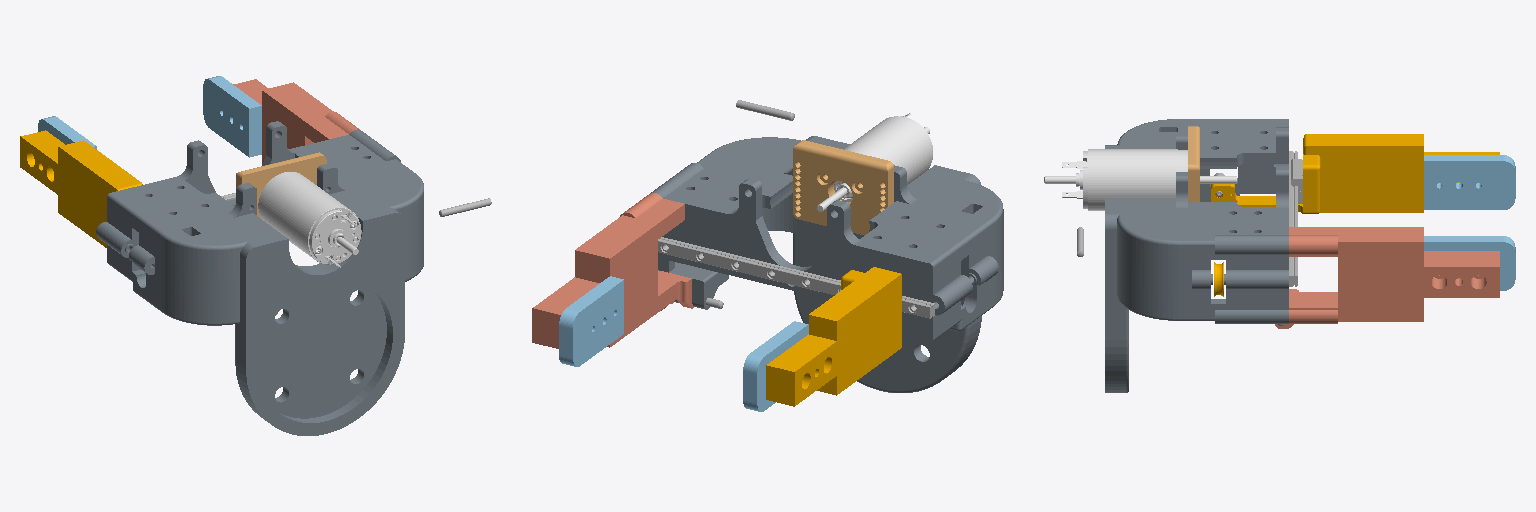
--- What the picture shows (computed from the rendered views, not written in the file) ---
3 views of the same robot in one strip: view 1: azimuth 30°, elevation 25°; view 2: azimuth 150°, elevation 25°; view 3: azimuth 270°, elevation 25° (orthographic).
Robot: exploratoryHand — 15 links, 14 joints (6 revolute, 1 prismatic, 7 fixed); root link world; default pose: every joint at zero.
Visible links, largest first — view 1: handbase_1, softfinger_1; view 2: handbase_1, softfinger_1; view 3: handbase_1, softfinger_1.
Boxes of the visible links, box(x1,y1,x2,y2) form: handbase_1: box(96, 76, 491, 435); softfinger_1: box(20, 116, 142, 247); handbase_1: box(532, 100, 1003, 392); softfinger_1: box(743, 267, 901, 411); handbase_1: box(1044, 119, 1515, 392); softfinger_1: box(1211, 134, 1515, 213).
Size in the robot's own frame: 0.137 by 0.1921 by 0.1075 metres.
20 mesh visuals loaded from 23 distinct referenced files (14 binary STL); not drawn: 10 (reference not matched to a file when rendering).

URDF robot description (exploratoryHand):
<?xml version="1.0" encoding="utf-8"?>
<!-- =================================================================================== -->
<!-- |    This document was autogenerated by xacro from ./urdf/robot_arm.xacro         | -->
<!-- |    EDITING THIS FILE BY HAND IS NOT RECOMMENDED                                 | -->
<!-- =================================================================================== -->
<robot name="exploratoryHand">
  <!-- ros_control plugin -->
  <gazebo>
    <plugin filename="libgazebo_ros_control.so" name="gazebo_ros_control">
      <robotNamespace>/robot</robotNamespace>
      <robotSimType>gazebo_ros_control/DefaultRobotHWSim</robotSimType>
    </plugin>
  </gazebo>
  <!-- Link1 -->
<!--  <gazebo reference="mobilefinger_1"> -->
  <gazebo reference="softfinger_1">
    <mu1>0.2</mu1>
    <mu2>0.2</mu2>
    <material>Gazebo/Orange</material>
  </gazebo>

  <!-- measured from model -->
  <!--property name="shoulder_height" value="0.089159" /-->
  <!--property name="shoulder_offset" value="0.13585" /-->
  <!-- shoulder_offset - elbow_offset + wrist_1_length = 0.10915 -->
  <!--property name="upper_arm_length" value="0.42500" /-->
  <!--property name="elbow_offset" value="0.1197" /-->
  <!-- CAD measured -->
  <!--property name="forearm_length" value="0.39225" /-->
  <!--property name="wrist_1_length" value="0.093" /-->
  <!-- CAD measured -->
  <!--property name="wrist_2_length" value="0.09465" /-->
  <!-- In CAD this distance is 0.930, but in the spec it is 0.09465 -->
  <!--property name="wrist_3_length" value="0.0823" /-->
  <!-- manually measured -->
  <link name="base_link">
    <visual>
      <geometry>
        <mesh filename="package://ur_description/meshes/ur5/visual/base.dae"/>
      </geometry>
      <material name="LightGrey">
        <color rgba="0.7 0.7 0.7 1.0"/>
      </material>
    </visual>
    <collision>
      <geometry>
        <mesh filename="package://ur_description/meshes/ur5/collision/base.stl"/>
      </geometry>
    </collision>
    <inertial>
      <mass value="4.0"/>
      <origin rpy="0 0 0" xyz="0.0 0.0 0.0"/>
      <inertia ixx="0.00443333156" ixy="0.0" ixz="0.0" iyy="0.00443333156" iyz="0.0" izz="0.0072"/>
    </inertial>
  </link>
  <joint name="shoulder_pan_joint" type="revolute">
    <parent link="base_link"/>
    <child link="shoulder_link"/>
    <origin rpy="0.0 0.0 0.0" xyz="0.0 0.0 0.089159"/>
    <axis xyz="0 0 1"/>
    <limit effort="150.0" lower="-3.14159265359" upper="3.14159265359" velocity="3.15"/>
    <dynamics damping="0.0" friction="0.0"/>
  </joint>
  <link name="shoulder_link">
    <visual>
      <geometry>
        <mesh filename="package://ur_description/meshes/ur5/visual/shoulder.dae"/>
      </geometry>
      <material name="LightGrey">
        <color rgba="0.7 0.7 0.7 1.0"/>
      </material>
    </visual>
    <collision>
      <geometry>
        <mesh filename="package://ur_description/meshes/ur5/collision/shoulder.stl"/>
      </geometry>
    </collision>
    <inertial>
      <mass value="3.7"/>
      <origin rpy="0 0 0" xyz="0.0 0.0 0.0"/>
      <inertia ixx="0.010267495893" ixy="0.0" ixz="0.0" iyy="0.010267495893" iyz="0.0" izz="0.00666"/>
    </inertial>
  </link>
  <joint name="shoulder_lift_joint" type="revolute">
    <parent link="shoulder_link"/>
    <child link="upper_arm_link"/>
    <origin rpy="0.0 1.57079632679 0.0" xyz="0.0 0.13585 0.0"/>
    <axis xyz="0 1 0"/>
    <limit effort="150.0" lower="-3.14159265359" upper="3.14159265359" velocity="3.15"/>
    <dynamics damping="0.0" friction="0.0"/>
  </joint>
  <link name="upper_arm_link">
    <visual>
      <geometry>
        <mesh filename="package://ur_description/meshes/ur5/visual/upperarm.dae"/>
      </geometry>
      <material name="LightGrey">
        <color rgba="0.7 0.7 0.7 1.0"/>
      </material>
    </visual>
    <collision>
      <geometry>
        <mesh filename="package://ur_description/meshes/ur5/collision/upperarm.stl"/>
      </geometry>
    </collision>
    <inertial>
      <mass value="8.393"/>
      <origin rpy="0 0 0" xyz="0.0 0.0 0.28"/>
      <inertia ixx="0.22689067591" ixy="0.0" ixz="0.0" iyy="0.22689067591" iyz="0.0" izz="0.0151074"/>
    </inertial>
  </link>
  <joint name="elbow_joint" type="revolute">
    <parent link="upper_arm_link"/>
    <child link="forearm_link"/>
    <origin rpy="0.0 0.0 0.0" xyz="0.0 -0.1197 0.425"/>
    <axis xyz="0 1 0"/>
    <limit effort="150.0" lower="-3.14159265359" upper="3.14159265359" velocity="3.15"/>
    <dynamics damping="0.0" friction="0.0"/>
  </joint>
  <link name="forearm_link">
    <visual>
      <geometry>
        <mesh filename="package://ur_description/meshes/ur5/visual/forearm.dae"/>
      </geometry>
      <material name="LightGrey">
        <color rgba="0.7 0.7 0.7 1.0"/>
      </material>
    </visual>
    <collision>
      <geometry>
        <mesh filename="package://ur_description/meshes/ur5/collision/forearm.stl"/>
      </geometry>
    </collision>
    <inertial>
      <mass value="2.275"/>
      <origin rpy="0 0 0" xyz="0.0 0.0 0.196125"/>
      <inertia ixx="0.0312167910289" ixy="0.0" ixz="0.0" iyy="0.0312167910289" iyz="0.0" izz="0.004095"/>
    </inertial>
  </link>
  <joint name="wrist_1_joint" type="revolute">
    <parent link="forearm_link"/>
    <child link="wrist_1_link"/>
    <origin rpy="0.0 1.57079632679 0.0" xyz="0.0 0.0 0.39225"/>
    <axis xyz="0 1 0"/>
    <limit effort="28.0" lower="-3.14159265359" upper="3.14159265359" velocity="3.2"/>
    <dynamics damping="0.0" friction="0.0"/>
  </joint>
  <link name="wrist_1_link">
    <visual>
      <geometry>
        <mesh filename="package://ur_description/meshes/ur5/visual/wrist1.dae"/>
      </geometry>
      <material name="LightGrey">
        <color rgba="0.7 0.7 0.7 1.0"/>
      </material>
    </visual>
    <collision>
      <geometry>
        <mesh filename="package://ur_description/meshes/ur5/collision/wrist1.stl"/>
      </geometry>
    </collision>
    <inertial>
      <mass value="1.219"/>
      <origin rpy="0 0 0" xyz="0.0 0.093 0.0"/>
      <inertia ixx="0.00255989897604" ixy="0.0" ixz="0.0" iyy="0.00255989897604" iyz="0.0" izz="0.0021942"/>
    </inertial>
  </link>
  <joint name="wrist_2_joint" type="revolute">
    <parent link="wrist_1_link"/>
    <child link="wrist_2_link"/>
    <origin rpy="0.0 0.0 0.0" xyz="0.0 0.093 0.0"/>
    <axis xyz="0 0 1"/>
    <limit effort="28.0" lower="-3.14159265359" upper="3.14159265359" velocity="3.2"/>
    <dynamics damping="0.0" friction="0.0"/>
  </joint>
  <link name="wrist_2_link">
    <visual>
      <geometry>
        <mesh filename="package://ur_description/meshes/ur5/visual/wrist2.dae"/>
      </geometry>
      <material name="LightGrey">
        <color rgba="0.7 0.7 0.7 1.0"/>
      </material>
    </visual>
    <collision>
      <geometry>
        <mesh filename="package://ur_description/meshes/ur5/collision/wrist2.stl"/>
      </geometry>
    </collision>
    <inertial>
      <mass value="1.219"/>
      <origin rpy="0 0 0" xyz="0.0 0.0 0.09465"/>
      <inertia ixx="0.00255989897604" ixy="0.0" ixz="0.0" iyy="0.00255989897604" iyz="0.0" izz="0.0021942"/>
    </inertial>
  </link>
  <joint name="wrist_3_joint" type="revolute">
    <parent link="wrist_2_link"/>
    <child link="wrist_3_link"/>
    <origin rpy="0.0 0.0 0.0" xyz="0.0 0.0 0.09465"/>
    <axis xyz="0 1 0"/>
    <limit effort="28.0" lower="-3.14159265359" upper="3.14159265359" velocity="3.2"/>
    <dynamics damping="0.0" friction="0.0"/>
  </joint>
  <link name="wrist_3_link">
    <visual>
      <geometry>
        <mesh filename="package://ur_description/meshes/ur5/visual/wrist3.dae"/>
      </geometry>
      <material name="LightGrey">
        <color rgba="0.7 0.7 0.7 1.0"/>
      </material>
    </visual>
    <collision>
      <geometry>
        <mesh filename="package://ur_description/meshes/ur5/collision/wrist3.stl"/>
      </geometry>
    </collision>
    <inertial>
      <mass value="0.1879"/>
      <origin rpy="1.57079632679 0 0" xyz="0.0 0.06505 0.0"/>
      <inertia ixx="8.46958911216e-05" ixy="0.0" ixz="0.0" iyy="8.46958911216e-05" iyz="0.0" izz="0.0001321171875"/>
    </inertial>
  </link>
  <joint name="ee_fixed_joint" type="fixed">
    <parent link="wrist_3_link"/>
    <child link="ee_link"/>
    <origin rpy="0.0 0.0 1.57079632679" xyz="0.0 0.0823 0.0"/>
  </joint>
  <link name="ee_link">
    <collision>
      <geometry>
        <box size="0.01 0.01 0.01"/>
      </geometry>
      <origin rpy="0 0 0" xyz="-0.01 0 0"/>
    </collision>
  </link>
  <transmission name="shoulder_pan_trans">
    <type>transmission_interface/SimpleTransmission</type>
    <joint name="shoulder_pan_joint">
      <hardwareInterface>hardware_interface/PositionJointInterface</hardwareInterface>
    </joint>
    <actuator name="shoulder_pan_motor">
      <mechanicalReduction>1</mechanicalReduction>
    </actuator>
  </transmission>
  <transmission name="shoulder_lift_trans">
    <type>transmission_interface/SimpleTransmission</type>
    <joint name="shoulder_lift_joint">
      <hardwareInterface>hardware_interface/PositionJointInterface</hardwareInterface>
    </joint>
    <actuator name="shoulder_lift_motor">
      <mechanicalReduction>1</mechanicalReduction>
    </actuator>
  </transmission>
  <transmission name="elbow_trans">
    <type>transmission_interface/SimpleTransmission</type>
    <joint name="elbow_joint">
      <hardwareInterface>hardware_interface/PositionJointInterface</hardwareInterface>
    </joint>
    <actuator name="elbow_motor">
      <mechanicalReduction>1</mechanicalReduction>
    </actuator>
  </transmission>
  <transmission name="wrist_1_trans">
    <type>transmission_interface/SimpleTransmission</type>
    <joint name="wrist_1_joint">
      <hardwareInterface>hardware_interface/PositionJointInterface</hardwareInterface>
    </joint>
    <actuator name="wrist_1_motor">
      <mechanicalReduction>1</mechanicalReduction>
    </actuator>
  </transmission>
  <transmission name="wrist_2_trans">
    <type>transmission_interface/SimpleTransmission</type>
    <joint name="wrist_2_joint">
      <hardwareInterface>hardware_interface/PositionJointInterface</hardwareInterface>
    </joint>
    <actuator name="wrist_2_motor">
      <mechanicalReduction>1</mechanicalReduction>
    </actuator>
  </transmission>
  <transmission name="wrist_3_trans">
    <type>transmission_interface/SimpleTransmission</type>
    <joint name="wrist_3_joint">
      <hardwareInterface>hardware_interface/PositionJointInterface</hardwareInterface>
    </joint>
    <actuator name="wrist_3_motor">
      <mechanicalReduction>1</mechanicalReduction>
    </actuator>
  </transmission>
  <gazebo reference="shoulder_link">
    <selfCollide>true</selfCollide>
  </gazebo>
  <gazebo reference="upper_arm_link">
    <selfCollide>true</selfCollide>
  </gazebo>
  <gazebo reference="forearm_link">
    <selfCollide>true</selfCollide>
  </gazebo>
  <gazebo reference="wrist_1_link">
    <selfCollide>true</selfCollide>
  </gazebo>
  <gazebo reference="wrist_2_link">
    <selfCollide>true</selfCollide>
  </gazebo>
  <gazebo reference="wrist_3_link">
    <selfCollide>true</selfCollide>
  </gazebo>
  <gazebo reference="ee_link">
    <selfCollide>true</selfCollide>
  </gazebo>

    <!-- The ft_sensor plugin -->  
  <gazebo>
      <plugin name="ft_sensor" filename="libgazebo_ros_ft_sensor.so">
          <updateRate>0</updateRate>	<!-- updateRate must be 0 for avoiding stop when reset the simulation -->
          <topicName>ft_sensor_topic</topicName>
          <jointName>wrist_3_joint</jointName>
      </plugin>
  </gazebo>

  <!-- ROS base_link to UR 'Base' Coordinates transform -->
  <link name="base"/>
  <joint name="base_link-base_fixed_joint" type="fixed">
    <!-- NOTE: this rotation is only needed as long as base_link itself is
                 not corrected wrt the real robot (ie: rotated over 180
                 degrees)
      -->
    <origin rpy="0 0 -3.14159265359" xyz="0 0 0"/>
    <parent link="base_link"/>
    <child link="base"/>
  </joint>
  <!-- Frame coincident with all-zeros TCP on UR controller -->
  <link name="tool0"/>
  <joint name="wrist_3_link-tool0_fixed_joint" type="fixed">
    <origin rpy="-1.57079632679 0 0" xyz="0 0.0823 0"/>
    <parent link="wrist_3_link"/>
    <child link="tool0"/>
  </joint>

  <joint name="ee_joint" type="fixed">
    <parent link="tool0"/>
    <child link="handbase_1"/>
    <origin rpy="0.0 0 0" xyz="0 0 0"/>
  </joint>

  <link name="handbase_1">
    <visual>
      <origin rpy="0 -0 0" xyz="-0.06 0.0545 0.00025"/>
      <geometry>
        <mesh filename="package://ur_description/meshes/exp_hand/pulley.stl"/>
      </geometry>
      <material name="pulley_material">
        <color rgba="0.980392 0.713725 0.00392157 1.0"/>
      </material>
    </visual>
    <collision>
      <origin rpy="0 -0 0" xyz="-0.06 0.0545 0.00025"/>
      <geometry>
        <mesh filename="package://ur_description/meshes/exp_hand/pulley.stl"/>
      </geometry>
      <material name="pulley_material">
        <color rgba="0.980392 0.713725 0.00392157 1.0"/>
      </material>
    </collision>
    <visual>
      <origin rpy="5.55112e-17 2.28323e-16 3.74314e-16" xyz="-0.06 0.0545 8.52833e-16"/>
      <geometry>
        <mesh filename="package://ur_description/meshes/exp_hand/rigidfinger.stl"/>
      </geometry>
      <material name="rigidfinger_material">
        <color rgba="0.882353 0.572549 0.478431 1.0"/>
      </material>
    </visual>
    <collision>
      <origin rpy="5.55112e-17 2.28323e-16 3.74314e-16" xyz="-0.06 0.0545 8.52833e-16"/>
      <geometry>
        <mesh filename="package://ur_description/meshes/exp_hand/rigidfinger.stl"/>
      </geometry>
      <material name="rigidfinger_material">
        <color rgba="0.882353 0.572549 0.478431 1.0"/>
      </material>
    </collision>
    <visual>
      <origin rpy="-0 1.5708 0" xyz="1.38778e-17 0.0545 0.029"/>
      <geometry>
        <mesh filename="package://ur_description/meshes/exp_hand/302534_re25_gb_20w_kl_2we.stl"/>
      </geometry>
      <material name="302534_re25_gb_20w_kl_2we_material">
        <color rgba="0.917647 0.917647 0.917647 1.0"/>
      </material>
    </visual>
    <collision>
      <origin rpy="-0 1.5708 0" xyz="1.38778e-17 0.0545 0.029"/>
      <geometry>
        <mesh filename="package://ur_description/meshes/exp_hand/302534_re25_gb_20w_kl_2we.stl"/>
      </geometry>
      <material name="302534_re25_gb_20w_kl_2we_material">
        <color rgba="0.917647 0.917647 0.917647 1.0"/>
      </material>
    </collision>
    <visual>
      <origin rpy="0 -0 0" xyz="-0.06 0.0545 0.00025"/>
      <geometry>
        <mesh filename="package://ur_description/meshes/exp_hand/pulley.stl"/>
      </geometry>
      <material name="pulley_material">
        <color rgba="0.980392 0.713725 0.00392157 1.0"/>
      </material>
    </visual>
    <collision>
      <origin rpy="0 -0 0" xyz="-0.06 0.0545 0.00025"/>
      <geometry>
        <mesh filename="package://ur_description/meshes/exp_hand/pulley.stl"/>
      </geometry>
      <material name="pulley_material">
        <color rgba="0.980392 0.713725 0.00392157 1.0"/>
      </material>
    </collision>
    <visual>
      <origin rpy="0 -0 0" xyz="-0.06 0.0545 -0.0149582"/>
      <geometry>
        <mesh filename="package://ur_description/meshes/exp_hand/dowel-m3-l24.stl"/>
      </geometry>
      <material name="dowel-m3-l24_material">
        <color rgba="0.752941 0.752941 0.752941 1.0"/>
      </material>
    </visual>
    <collision>
      <origin rpy="0 -0 0" xyz="-0.06 0.0545 -0.0149582"/>
      <geometry>
        <mesh filename="package://ur_description/meshes/exp_hand/dowel-m3-l24.stl"/>
      </geometry>
      <material name="dowel-m3-l24_material">
        <color rgba="0.752941 0.752941 0.752941 1.0"/>
      </material>
    </collision>
    <visual>
      <origin rpy="2.02111e-26 9.52613e-17 9.63735e-17" xyz="-0.06 0.0545 6.07153e-18"/>
      <geometry>
        <mesh filename="package://ur_description/meshes/exp_hand/handbase.stl"/>
      </geometry>
      <material name="handbase_material">
        <color rgba="0.529412 0.568627 0.6 1.0"/>
      </material>
    </visual>
    <collision>
      <origin rpy="2.02111e-26 9.52613e-17 9.63735e-17" xyz="-0.06 0.0545 6.07153e-18"/>
      <geometry>
        <mesh filename="package://ur_description/meshes/exp_hand/handbase.stl"/>
      </geometry>
      <material name="handbase_material">
        <color rgba="0.529412 0.568627 0.6 1.0"/>
      </material>
    </collision>
    <visual>
      <origin rpy="1.0413e-28 -0 2.34901e-31" xyz="-0.06 0.0545 -1.38778e-17"/>
      <geometry>
        <mesh filename="package://ur_description/meshes/exp_hand/linearrail120.stl"/>
      </geometry>
      <material name="linearrail120_material">
        <color rgba="0.752941 0.752941 0.752941 1.0"/>
      </material>
    </visual>
    <collision>
      <origin rpy="1.0413e-28 -0 2.34901e-31" xyz="-0.06 0.0545 -1.38778e-17"/>
      <geometry>
        <mesh filename="package://ur_description/meshes/exp_hand/linearrail120.stl"/>
      </geometry>
      <material name="linearrail120_material">
        <color rgba="0.752941 0.752941 0.752941 1.0"/>
      </material>
    </collision>
    <visual>
      <origin rpy="1.5708 5.55112e-17 -1.5708" xyz="-0.039 0.0365 0.14375"/>
      <geometry>
        <mesh filename="package://ur_description/meshes/exp_hand/c-203-pad_distal_blank.stl"/>
      </geometry>
      <material name="c-203-pad_distal_blank_material">
        <color rgba="0.615686 0.811765 0.929412 1.0"/>
      </material>
    </visual>
    <collision>
      <origin rpy="1.5708 5.55112e-17 -1.5708" xyz="-0.039 0.0365 0.14375"/>
      <geometry>
        <mesh filename="package://ur_description/meshes/exp_hand/c-203-pad_distal_blank.stl"/>
      </geometry>
      <material name="c-203-pad_distal_blank_material">
        <color rgba="0.615686 0.811765 0.929412 1.0"/>
      </material>
    </collision>
    <visual>
      <origin rpy="-3.14159 1.5708 0" xyz="-0.0575 0.052 0.072"/>
      <geometry>
        <mesh filename="package://ur_description/meshes/exp_hand/dowelm3-32.stl"/>
      </geometry>
      <material name="dowelm3-32_material">
        <color rgba="0.752941 0.752941 0.752941 1.0"/>
      </material>
    </visual>
    <collision>
      <origin rpy="-3.14159 1.5708 0" xyz="-0.0575 0.052 0.072"/>
      <geometry>
        <mesh filename="package://ur_description/meshes/exp_hand/dowelm3-32.stl"/>
      </geometry>
      <material name="dowelm3-32_material">
        <color rgba="0.752941 0.752941 0.752941 1.0"/>
      </material>
    </collision>
    <visual>
      <origin rpy="3.14159 -0 0" xyz="-0.051 0.05125 0.0684125"/>
      <geometry>
        <mesh filename="package://ur_description/meshes/exp_hand/neodyniummagnets.stl"/>
      </geometry>
      <material name="neodyniummagnets_material">
        <color rgba="0.752941 0.752941 0.752941 1.0"/>
      </material>
    </visual>
    <collision>
      <origin rpy="3.14159 -0 0" xyz="-0.051 0.05125 0.0684125"/>
      <geometry>
        <mesh filename="package://ur_description/meshes/exp_hand/neodyniummagnets.stl"/>
      </geometry>
      <material name="neodyniummagnets_material">
        <color rgba="0.752941 0.752941 0.752941 1.0"/>
      </material>
    </collision>
    <visual>
      <origin rpy="6.93889e-18 -2.16037e-16 1.03961e-15" xyz="-0.051 0.05125 0.0725875"/>
      <geometry>
        <mesh filename="package://ur_description/meshes/exp_hand/neodyniummagnets.stl"/>
      </geometry>
      <material name="neodyniummagnets_material">
        <color rgba="0.752941 0.752941 0.752941 1.0"/>
      </material>
    </visual>
    <collision>
      <origin rpy="6.93889e-18 -2.16037e-16 1.03961e-15" xyz="-0.051 0.05125 0.0725875"/>
      <geometry>
        <mesh filename="package://ur_description/meshes/exp_hand/neodyniummagnets.stl"/>
      </geometry>
      <material name="neodyniummagnets_material">
        <color rgba="0.752941 0.752941 0.752941 1.0"/>
      </material>
    </collision>
    <visual>
      <origin rpy="0 -0 0" xyz="-0.06 0.0545 -0.0149582"/>
      <geometry>
        <mesh filename="package://ur_description/meshes/exp_hand/dowel-m3-l24.stl"/>
      </geometry>
      <material name="dowel-m3-l24_material">
        <color rgba="0.752941 0.752941 0.752941 1.0"/>
      </material>
    </visual>
    <collision>
      <origin rpy="0 -0 0" xyz="-0.06 0.0545 -0.0149582"/>
      <geometry>
        <mesh filename="package://ur_description/meshes/exp_hand/dowel-m3-l24.stl"/>
      </geometry>
      <material name="dowel-m3-l24_material">
        <color rgba="0.752941 0.752941 0.752941 1.0"/>
      </material>
    </collision>
    <visual>
      <origin rpy="-3.14159 1.68053e-18 9.63735e-17" xyz="-0.0428275 0.0155 0.067"/>
      <geometry>
        <mesh filename="package://ur_description/meshes/exp_hand/dowel-m3-l24.stl"/>
      </geometry>
      <material name="dowel-m3-l24_material">
        <color rgba="0.752941 0.752941 0.752941 1.0"/>
      </material>
    </visual>
    <collision>
      <origin rpy="-3.14159 1.68053e-18 9.63735e-17" xyz="-0.0428275 0.0155 0.067"/>
      <geometry>
        <mesh filename="package://ur_description/meshes/exp_hand/dowel-m3-l24.stl"/>
      </geometry>
      <material name="dowel-m3-l24_material">
        <color rgba="0.752941 0.752941 0.752941 1.0"/>
      </material>
    </collision>
    <visual>
      <origin rpy="0 -0 0" xyz="-0.06 0.0545 0"/>
      <geometry>
        <mesh filename="package://ur_description/meshes/exp_hand/motormountplate.stl"/>
      </geometry>
      <material name="motormountplate_material">
        <color rgba="0.917647 0.72549 0.490196 1.0"/>
      </material>
    </visual>
    <collision>
      <origin rpy="0 -0 0" xyz="-0.06 0.0545 0"/>
      <geometry>
        <mesh filename="package://ur_description/meshes/exp_hand/motormountplate.stl"/>
      </geometry>
      <material name="motormountplate_material">
        <color rgba="0.917647 0.72549 0.490196 1.0"/>
      </material>
    </collision>
    <visual>
      <origin rpy="0 -0 0" xyz="1.38778e-17 0.0545 0.0349"/>
      <geometry>
        <mesh filename="package://ur_description/meshes/exp_hand/capstan20mm.stl"/>
      </geometry>
      <material name="capstan20mm_material">
        <color rgba="0.972549 0.529412 0.00392157 1.0"/>
      </material>
    </visual>
    <collision>
      <origin rpy="0 -0 0" xyz="1.38778e-17 0.0545 0.0349"/>
      <geometry>
        <mesh filename="package://ur_description/meshes/exp_hand/capstan20mm.stl"/>
      </geometry>
      <material name="capstan20mm_material">
        <color rgba="0.972549 0.529412 0.00392157 1.0"/>
      </material>
    </collision>
    <visual>
      <origin rpy="-3.14159 1.5708 0" xyz="-0.0575 0.021 0.072"/>
      <geometry>
        <mesh filename="package://ur_description/meshes/exp_hand/dowelm3-32.stl"/>
      </geometry>
      <material name="dowelm3-32_material">
        <color rgba="0.752941 0.752941 0.752941 1.0"/>
      </material>
    </visual>
    <collision>
      <origin rpy="-3.14159 1.5708 0" xyz="-0.0575 0.021 0.072"/>
      <geometry>
        <mesh filename="package://ur_description/meshes/exp_hand/dowelm3-32.stl"/>
      </geometry>
      <material name="dowelm3-32_material">
        <color rgba="0.752941 0.752941 0.752941 1.0"/>
      </material>
    </collision>
    <inertial>
      <origin rpy="0 0 0" xyz="-0.0152113 0.0472565 0.0515526"/>
      <mass value="0.24021"/>
      <inertia ixx="0.000752849" ixy="-4.05009e-05" ixz="0.000254613" iyy="0.000884835" iyz="0.000105384" izz="0.000193105"/>
    </inertial>
  </link>

  <link name="softfinger_1">
    <visual>
      <origin rpy="4.16041e-30 -0 0" xyz="-0.0095 -0.0011 -0.00175"/>
      <geometry>
        <mesh filename="package://ur_description/meshes/exp_hand/carriage_ml5c1s1.stl"/>
      </geometry>
      <material name="carriage_ml5c1s1_material">
        <color rgba="0.752941 0.752941 0.752941 1.0"/>
      </material>
    </visual>
    <collision>
      <origin rpy="4.16041e-30 -0 0" xyz="-0.0095 -0.0011 -0.00175"/>
      <geometry>
        <mesh filename="package://ur_description/meshes/exp_hand/carriage_ml5c1s1.stl"/>
      </geometry>
      <material name="carriage_ml5c1s1_material">
        <color rgba="0.752941 0.752941 0.752941 1.0"/>
      </material>
    </collision>
    <visual>
      <origin rpy="-1.5708 3.26639e-30 -1.5708" xyz="0.003 -0.03058 0.00305"/>
      <geometry>
        <mesh filename="package://ur_description/meshes/exp_hand/brassinsert.stl"/>
      </geometry>
      <material name="brassinsert_material">
        <color rgba="0.756863 0.462745 0.109804 1.0"/>
      </material>
    </visual>
    <collision>
      <origin rpy="-1.5708 3.26639e-30 -1.5708" xyz="0.003 -0.03058 0.00305"/>
      <geometry>
        <mesh filename="package://ur_description/meshes/exp_hand/brassinsert.stl"/>
      </geometry>
      <material name="brassinsert_material">
        <color rgba="0.756863 0.462745 0.109804 1.0"/>
      </material>
    </collision>
    <visual>
      <origin rpy="1.5708 1.5708 0" xyz="-0.0017752 -0.03058 0.00305"/>
      <geometry>
        <mesh filename="package://ur_description/meshes/exp_hand/ventedscrewlong.stl"/>
      </geometry>
      <material name="ventedscrewlong_material">
        <color rgba="0.752941 0.752941 0.752941 1.0"/>
      </material>
    </visual>
    <collision>
      <origin rpy="1.5708 1.5708 0" xyz="-0.0017752 -0.03058 0.00305"/>
      <geometry>
        <mesh filename="package://ur_description/meshes/exp_hand/ventedscrewlong.stl"/>
      </geometry>
      <material name="ventedscrewlong_material">
        <color rgba="0.752941 0.752941 0.752941 1.0"/>
      </material>
    </collision>
    <visual>
      <origin rpy="7.44686e-15 1.5708 0" xyz="-0.004 0.07145 -0.00175"/>
      <geometry>
        <mesh filename="package://ur_description/meshes/exp_hand/c-203-pad_distal_blank.stl"/>
      </geometry>
      <material name="c-203-pad_distal_blank_material">
        <color rgba="0.615686 0.811765 0.929412 1.0"/>
      </material>
    </visual>
    <collision>
      <origin rpy="7.44686e-15 1.5708 0" xyz="-0.004 0.07145 -0.00175"/>
      <geometry>
        <mesh filename="package://ur_description/meshes/exp_hand/c-203-pad_distal_blank.stl"/>
      </geometry>
      <material name="c-203-pad_distal_blank_material">
        <color rgba="0.615686 0.811765 0.929412 1.0"/>
      </material>
    </collision>
    <visual>
      <origin rpy="-1.5708 6.83944e-15 -7.63056e-15" xyz="0.002 0.0087 -0.00175"/>
      <geometry>
        <mesh filename="package://ur_description/meshes/exp_hand/mobilefinger.stl"/>
      </geometry>
      <material name="mobilefinger_material">
        <color rgba="0.980392 0.713725 0.00392157 1.0"/>
      </material>
    </visual>
    <collision>
      <origin rpy="-1.5708 6.83944e-15 -7.63056e-15" xyz="0.002 0.0087 -0.00175"/>
      <geometry>
        <mesh filename="package://ur_description/meshes/exp_hand/mobilefinger.stl"/>
      </geometry>
      <material name="mobilefinger_material">
        <color rgba="0.980392 0.713725 0.00392157 1.0"/>
      </material>
    </collision>
    <inertial>
      <origin rpy="0 0 0" xyz="0.00228341 0.0480489 -0.00151808"/>
      <mass value="0.0747607"/>
      <inertia ixx="7.4277e-05" ixy="5.77742e-06" ixz="-1.60791e-07" iyy="5.52364e-06" iyz="1.19371e-06" izz="7.28249e-05"/>
    </inertial>
  </link>

  <joint name="right_pad_joint" type="fixed">
    <parent link="handbase_1"/>
    <child link="right_pad"/>
  </joint>

  <link name="right_pad">
    <inertial>
      <mass value="0.009555"/>
      <origin xyz="-0.06 0.02 0.12" rpy="0 0 1.5708"/>
      <inertia ixx="0.0010829" iyy="0.00135044" izz="0.00036946" ixy="0" iyz="0" ixz="0"/>
    </inertial>
    <visual>
      <origin xyz="-0.06 0.02 0.12" rpy="0 0 1.5708"/>
      <geometry>
        <mesh filename="package://robotiq_2f_model/model/meshes/2f85/visual/pad.dae" scale="0.001 0.001 0.001"/>
      </geometry>
    </visual>
    <collision>
      <origin xyz="-0.06 0.02 0.12" rpy="0 0 1.5708"/>
      <geometry>
        <mesh filename="package://robotiq_2f_model/model/meshes/2f85/collision/pad.stl" scale="0.001 0.001 0.001"/>
      </geometry>
    </collision>
  </link>

  <gazebo reference="right_pad">
    <selfCollide>true</selfCollide>
    <implicitSpringDamper>1</implicitSpringDamper>
    <mu1>100000</mu1>
    <mu2>100000</mu2>
    <kp>1.0</kp>
    <kd>1.0</kd>
    <sensor type="camera" name="camera1">
      <update_rate>30.0</update_rate>
      <camera name="head">
        <pose>0 0.003 0.0215 0 0 4.71</pose>
        <horizontal_fov>1.3962634</horizontal_fov>
        <image>
          <width>4</width>
          <height>7</height>
          <format>L8</format>
        </image>
        <clip>
          <near>0.001</near>  <!-- 0.02, min 0.003 -->
          <far>0.1</far>
        </clip>
        <noise>
          <type>gaussian</type>
          <mean>0.0</mean>
          <stddev>0.007</stddev>
        </noise>
      </camera>
      <plugin name="camera_controller" filename="libgazebo_ros_camera.so">
        <alwaysOn>true</alwaysOn>
        <updateRate>0.0</updateRate>
        <cameraName>robotiq/rightcam</cameraName>
        <imageTopicName>image_raw_right</imageTopicName>
        <cameraInfoTopicName>camera_info_right</cameraInfoTopicName>
        <frameName>right_pad</frameName>
        <hackBaseline>0.07</hackBaseline>
        <distortionK1>0.0</distortionK1>
        <distortionK2>0.0</distortionK2>
        <distortionK3>0.0</distortionK3>
        <distortionT1>0.0</distortionT1>
        <distortionT2>0.0</distortionT2>
      </plugin>
    </sensor>
  </gazebo>

  <joint name="left_pad_joint" type="fixed">
    <parent link="softfinger_1"/>
    <child link="left_pad"/>
  </joint>

  <link name="left_pad">
    <inertial>
      <mass value="0.009555"/>
      <origin xyz="0.013 0.103 0.002" rpy="1.5708 1.5708 0" />
      <inertia ixx="0.0010829" iyy="0.00135044" izz="0.00036946" ixy="0" iyz="0" ixz="0"/>
    </inertial>
    <visual>
      <origin xyz="0.013 0.103 0.002" rpy="1.5708 1.5708 0" />
      <geometry>
        <mesh filename="package://robotiq_2f_model/model/meshes/2f85/visual/pad.dae" scale="0.001 0.001 0.001"/>
      </geometry>
    </visual>
    <collision>
      <origin xyz="0.013 0.103 0.002" rpy="1.5708 1.5708 0" />
      <geometry>
        <mesh filename="package://robotiq_2f_model/model/meshes/2f85/collision/pad.stl" scale="0.001 0.001 0.001"/>
      </geometry>
    </collision>
  </link>

  <gazebo reference="left_pad">
    <selfCollide>true</selfCollide>
    <implicitSpringDamper>1</implicitSpringDamper>
    <mu1>100000</mu1>
    <mu2>100000</mu2>
    <kp>1.0</kp>
    <kd>1.0</kd>
    <sensor type="camera" name="camera1">
      <update_rate>30.0</update_rate>
      <camera name="head">
        <pose>0 0.003 0.0215 0 0 4.71</pose>
        <horizontal_fov>1.3962634</horizontal_fov>
        <image>
          <width>4</width>
          <height>7</height>
          <format>L8</format>
        </image>
        <clip>
          <near>0.001</near>  <!-- 0.02, min 0.003 -->
          <far>0.1</far>
        </clip>
        <noise>
          <type>gaussian</type>
          <mean>0.0</mean>
          <stddev>0.007</stddev>
        </noise>
      </camera>
      <plugin name="camera_controller" filename="libgazebo_ros_camera.so">
        <alwaysOn>true</alwaysOn>
        <updateRate>0.0</updateRate>
        <cameraName>robotiq/leftcam</cameraName>
        <imageTopicName>image_raw_left</imageTopicName>
        <cameraInfoTopicName>camera_info_left</cameraInfoTopicName>
        <frameName>left_pad</frameName>
        <hackBaseline>0.07</hackBaseline>
        <distortionK1>0.0</distortionK1>
        <distortionK2>0.0</distortionK2>
        <distortionK3>0.0</distortionK3>
        <distortionT1>0.0</distortionT1>
        <distortionT2>0.0</distortionT2>
      </plugin>
    </sensor>
  </gazebo>


<!--  <joint name="main" type="prismatic"> -->
  <joint name="linear_joint" type="prismatic">
    <origin rpy="1.5708 -0 0" xyz="0.0370066 0.03475 0.0723"/>
    <parent link="handbase_1"/>
    <child link="softfinger_1"/>
    <axis xyz="-1 0 0"/>
    <limit effort="100" velocity="20"/>
    <joint_properties friction="0.0"/>
  </joint>
  <!-- define the ur5's position and orientation in the world coordinate system -->
  <link name="world"/>
  <joint name="world_joint" type="fixed">
    <parent link="world"/>
    <child link="base_link"/>
    <origin rpy="0.0 0.0 0.0" xyz="0.0 0.0 0.0"/>
  </joint>
  <transmission name="tran1">
    <type>transmission_interface/SimpleTransmission</type>
    <joint name="linear_joint">
      <hardwareInterface>hardware_interface/EffortJointInterface</hardwareInterface>
    </joint>
    <actuator name="motor1">
      <hardwareInterface>hardware_interface/EffortJointInterface</hardwareInterface>
      <mechanicalReduction>1</mechanicalReduction>
    </actuator>
  </transmission>
</robot>
